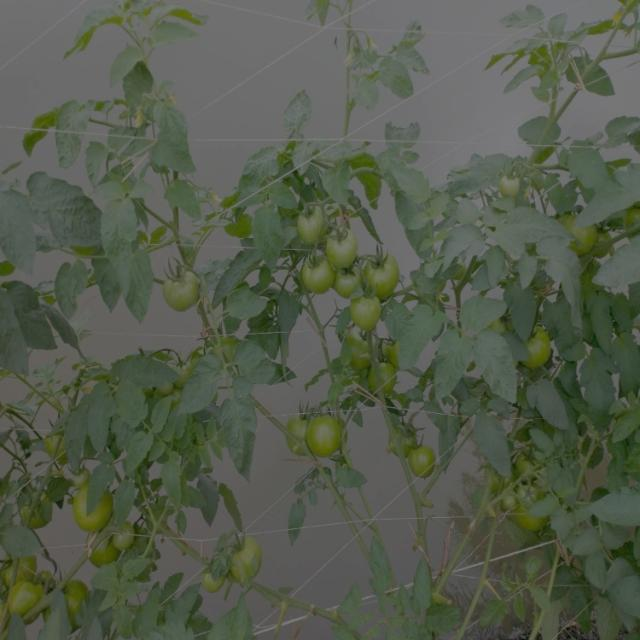tomato: (501, 479, 551, 538), (129, 185, 201, 221), (562, 213, 603, 267), (224, 537, 266, 584), (77, 480, 107, 538), (310, 418, 347, 465), (365, 255, 402, 301), (335, 226, 363, 277), (366, 364, 402, 403), (64, 577, 93, 625), (21, 495, 55, 534), (351, 295, 386, 332), (12, 582, 57, 610), (307, 253, 335, 297), (82, 540, 123, 569), (6, 552, 40, 584), (528, 330, 552, 375), (167, 273, 203, 302), (408, 443, 435, 481), (299, 212, 331, 243), (45, 432, 76, 463), (116, 518, 140, 554), (164, 364, 199, 386), (515, 450, 543, 477), (375, 341, 405, 365), (352, 336, 374, 367), (622, 209, 640, 244), (331, 277, 362, 297), (288, 419, 307, 451), (501, 174, 525, 196), (202, 564, 221, 588)
